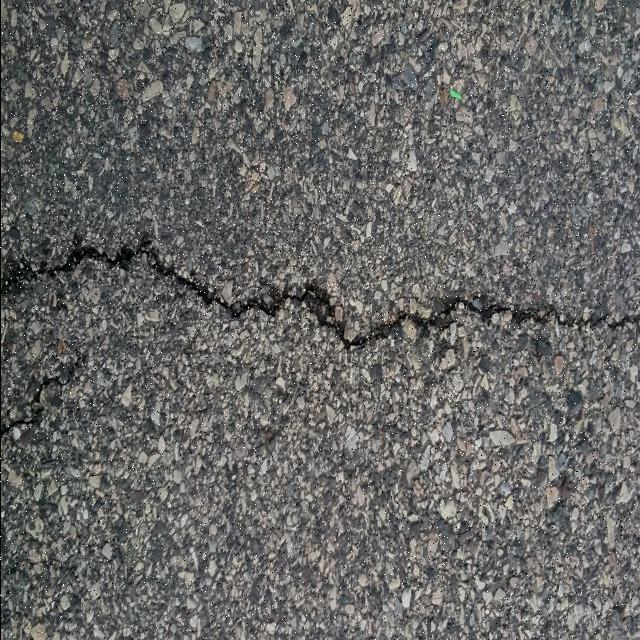Crack: (0, 226, 640, 355), (0, 371, 72, 438)
